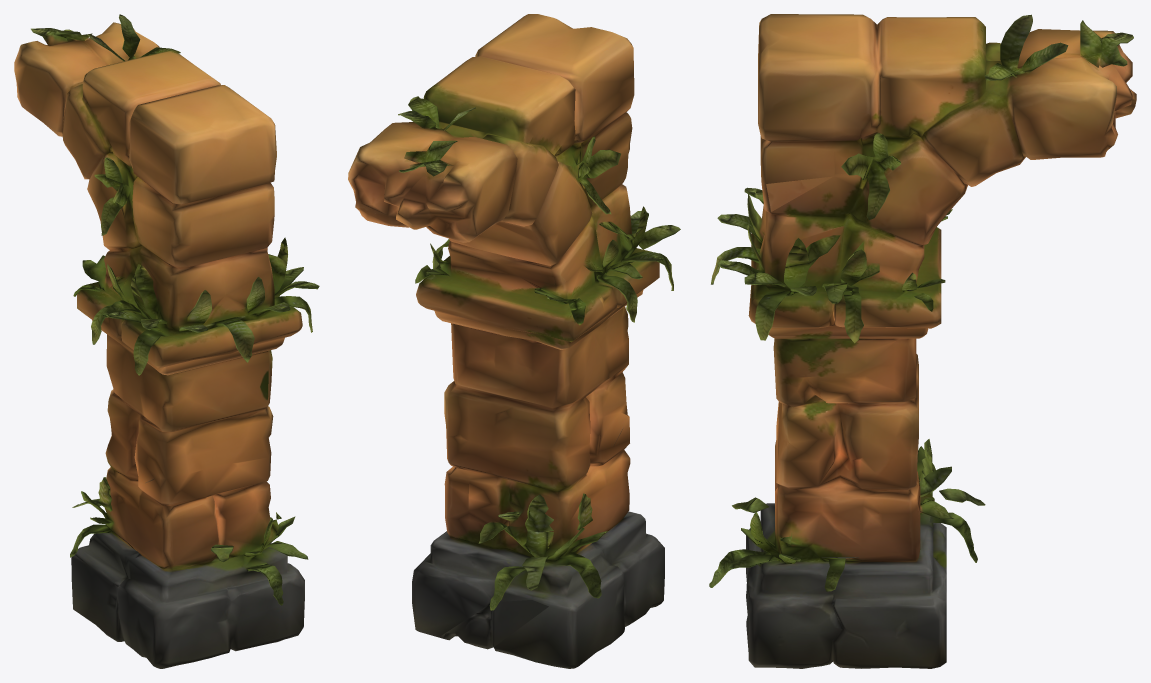
The model's file is ruined_arch.glb.
3 renders of one model, left to right at view 1: azimuth 30°, elevation 25°; view 2: azimuth 150°, elevation 25°; view 3: azimuth 270°, elevation 25°, orthographic. The views are drawn at different scales.
Parts seen in each view (by area): view 1: tripo_node_b494e3df-6f50-4828-9c4b-227da69607b5; view 2: tripo_node_b494e3df-6f50-4828-9c4b-227da69607b5; view 3: tripo_node_b494e3df-6f50-4828-9c4b-227da69607b5.
Boxes of the visible parts, x1,y1,x2,y2 form: tripo_node_b494e3df-6f50-4828-9c4b-227da69607b5: (14,14,319,668); tripo_node_b494e3df-6f50-4828-9c4b-227da69607b5: (348,14,680,668); tripo_node_b494e3df-6f50-4828-9c4b-227da69607b5: (709,14,1136,668).
Size of the model in its own units: 10.85 by 27.98 by 17.86.
1 material, 1 textured.
